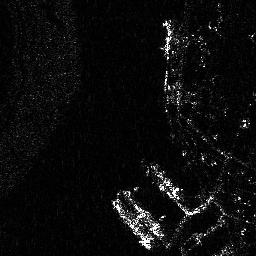ship: (112, 198, 153, 251), (124, 189, 167, 237)
